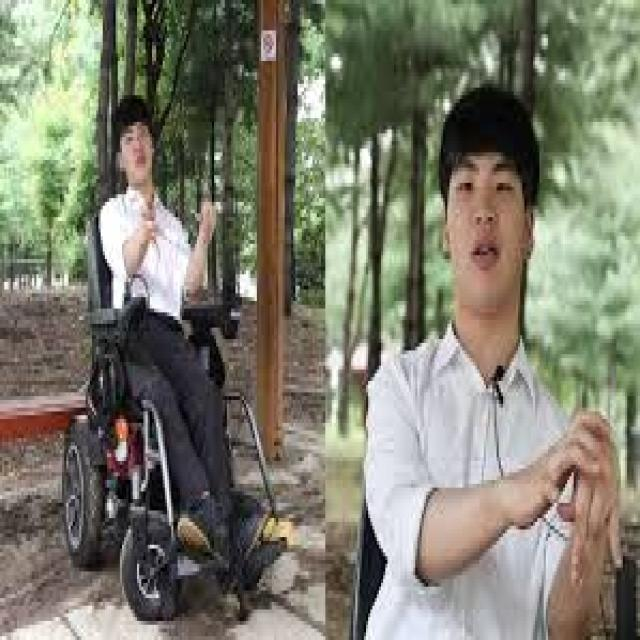wheelchair: (63, 95, 286, 620)
